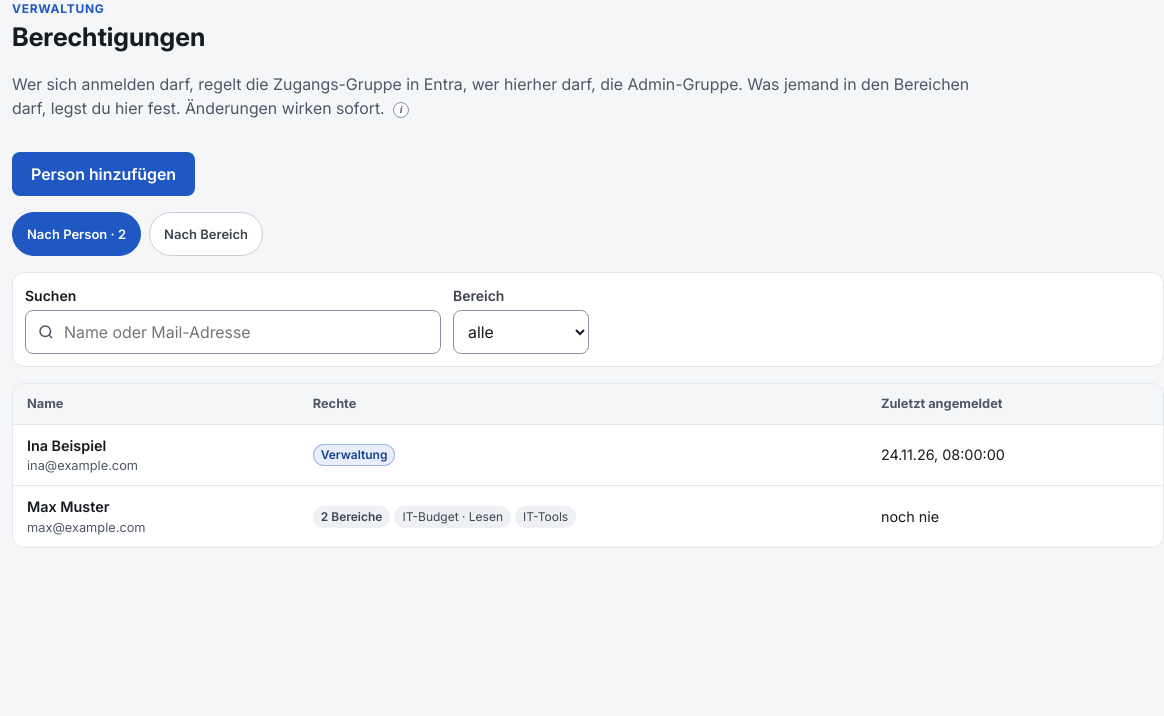
Berechtigungen › speichert neue Stufen einer Person
Click the link "Max Muster" at [68, 507], box [27,498,109,515]
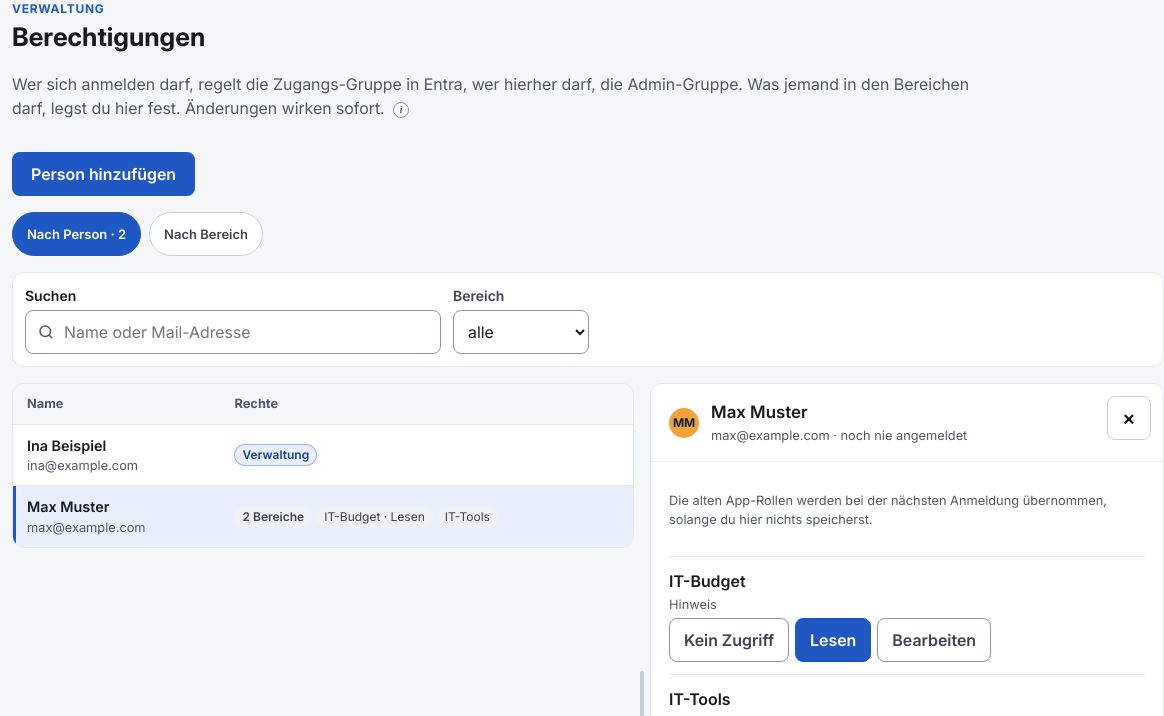
Click the radio button labelled "Bearbeiten" at [934, 640], box [877,618,991,662]
(page scrolled)
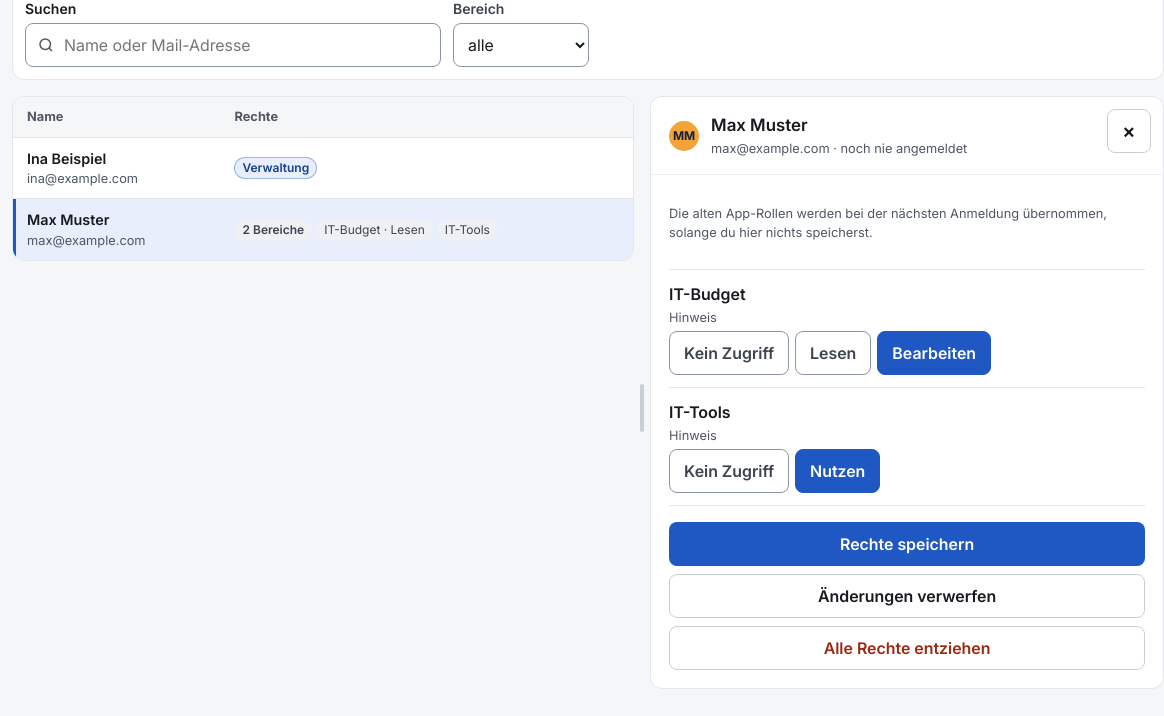
Click the button "Rechte speichern" at [907, 544], box [669,522,1145,566]
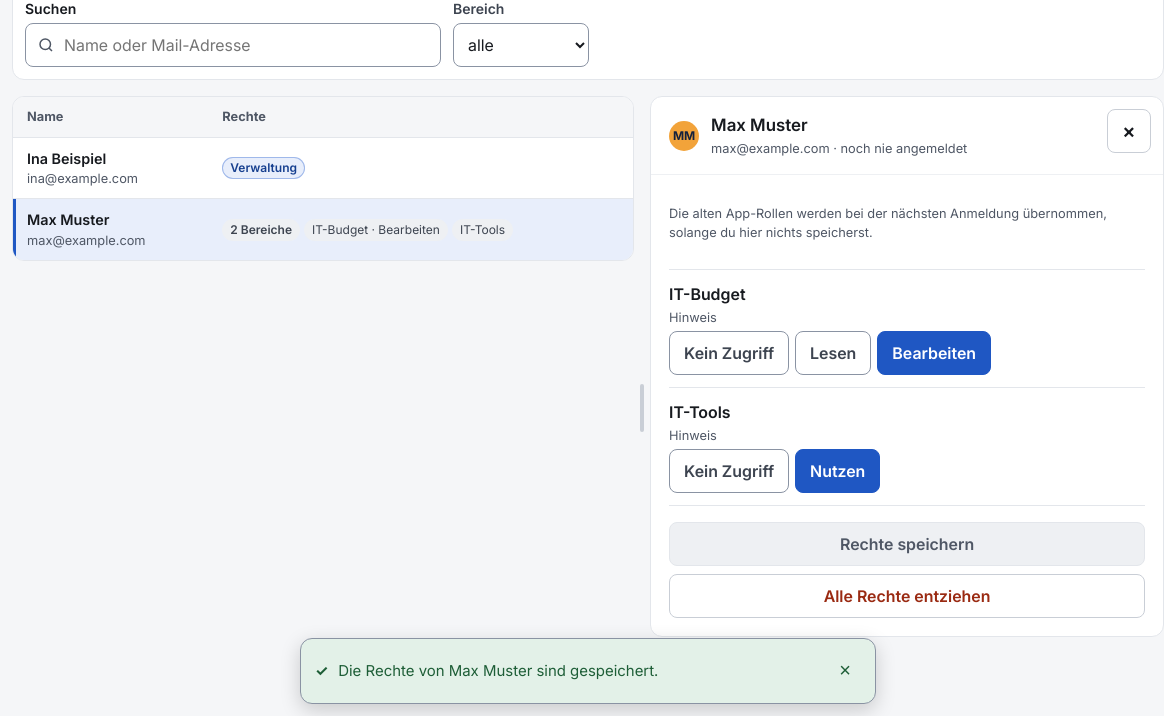
Result: the text "Die Rechte von Max Muster sind gespeichert." is shown at [338,660,658,680]
